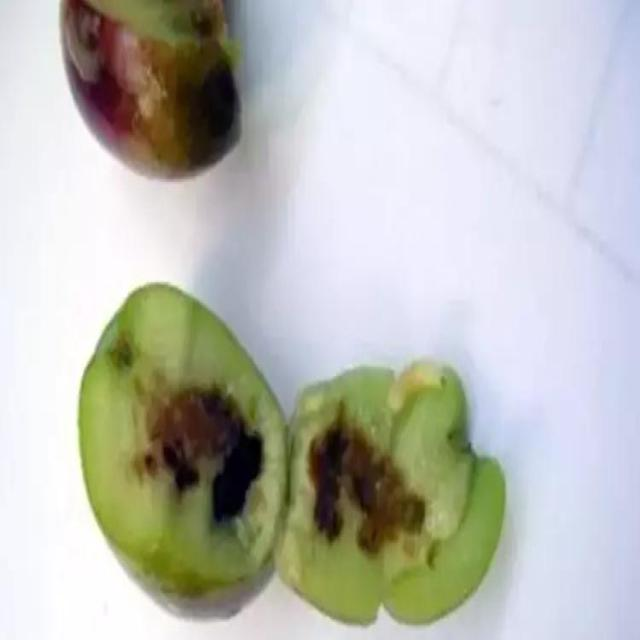Olive Fruit Fly: (79, 284, 505, 623), (61, 0, 240, 176)
